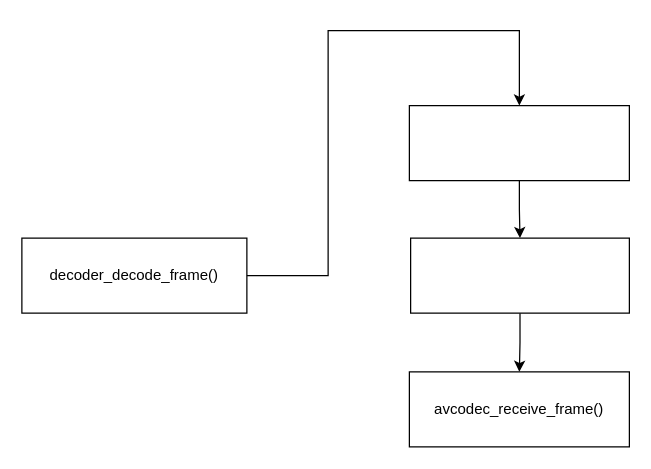
This 651x469 diagram has some shape labels left out. Here are the shapes that lost their labels. From the top down, the centre of each, then its label:
At (x=518, y=142): "读取出序列号一致的AVPacket packet_queue_get()".
At (x=519, y=275): "avcodec_send_packet()".
